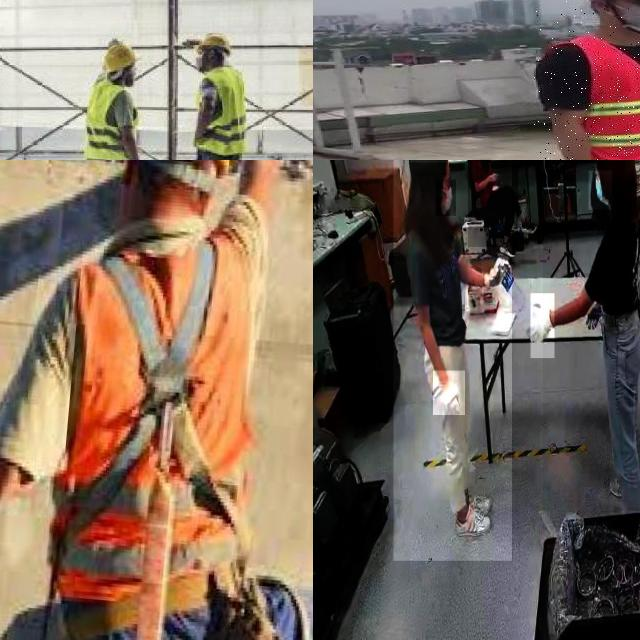Harness: (28, 221, 274, 640)
face_mask: (588, 170, 612, 210), (436, 179, 456, 216)
hand_glove: (531, 293, 555, 359), (487, 255, 516, 308), (433, 370, 465, 416)
hand_noglove: (486, 171, 500, 181)
head_helmet: (98, 41, 138, 72), (194, 30, 234, 55)
person: (393, 160, 512, 561), (543, 160, 640, 530), (534, 0, 640, 160), (64, 38, 152, 160), (186, 33, 254, 160), (467, 160, 518, 247)
shoes: (452, 505, 492, 541)
vest: (544, 35, 640, 160), (196, 66, 248, 158), (86, 79, 139, 160)
